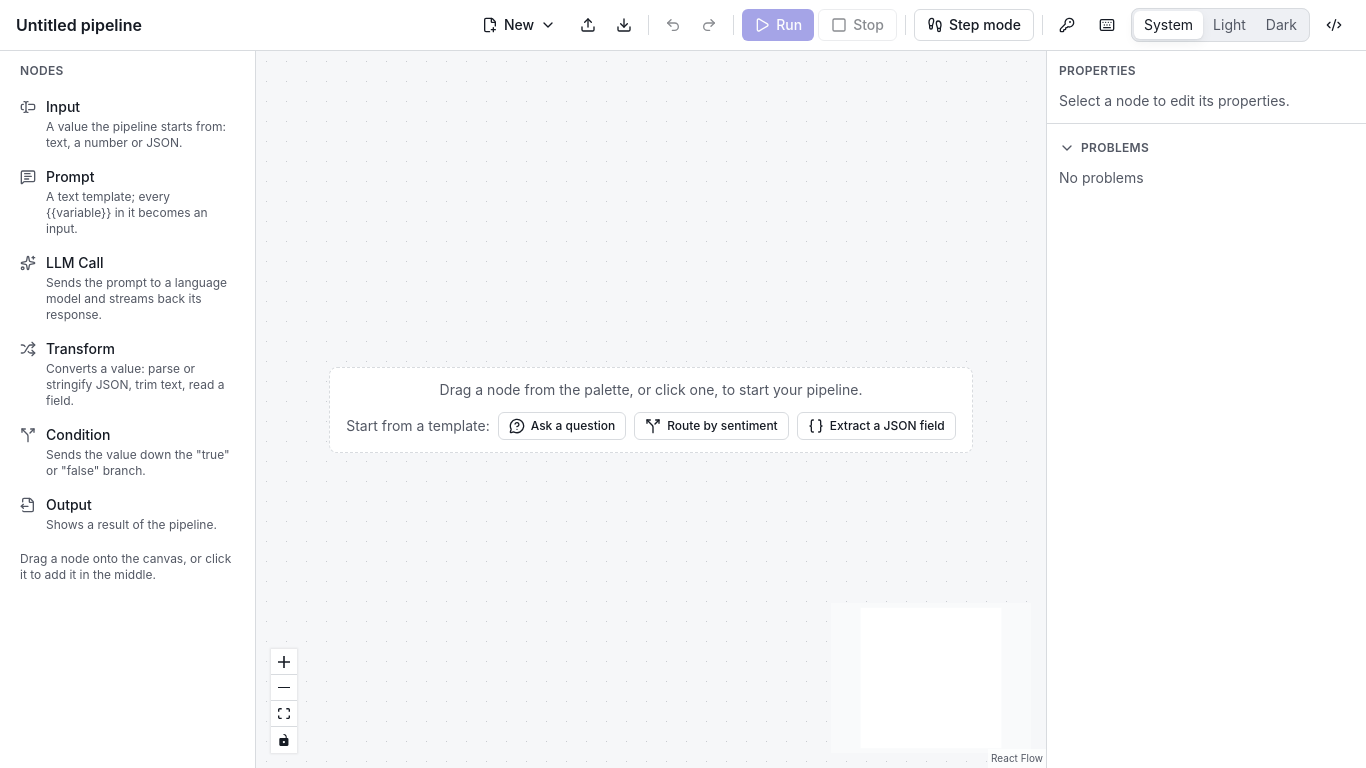
Test: EditorPage › hints how to start until the canvas has a node
Expected: the text "Drag a node from the palette, or click one, to start your pipeline." is shown, top-left (440, 380), bottom-right (862, 400)
Click the button with aria-label "Add Input": (128, 124) top-left (12, 91), bottom-right (243, 157)
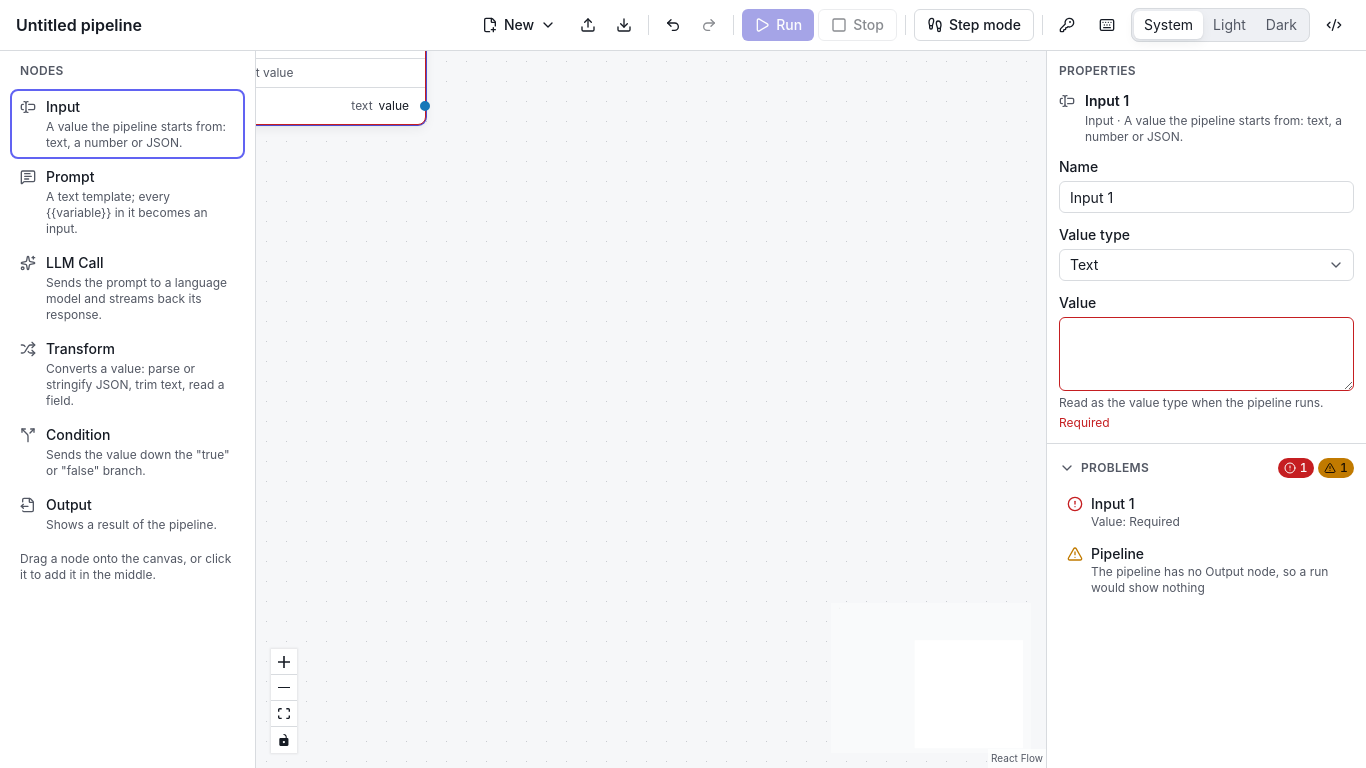
Expected: the text "Drag a node from the palette, or click one, to start your pipeline." is gone
